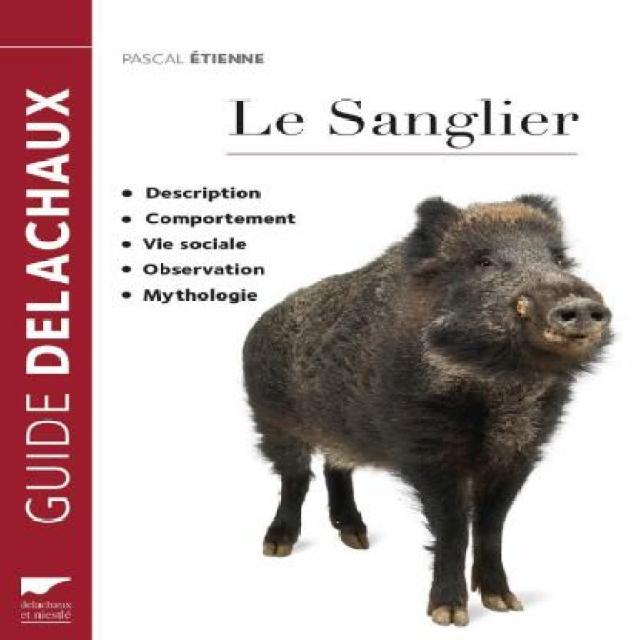wildboar: (236, 186, 632, 640)
